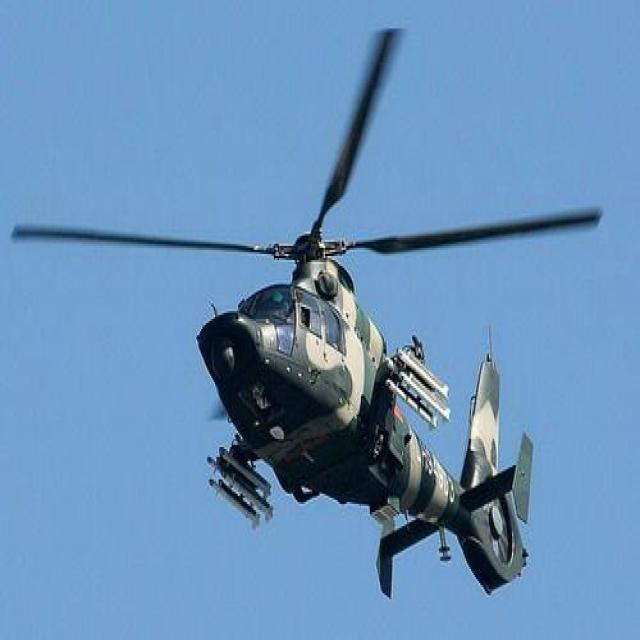MIL_HELO: (5, 23, 606, 604)
